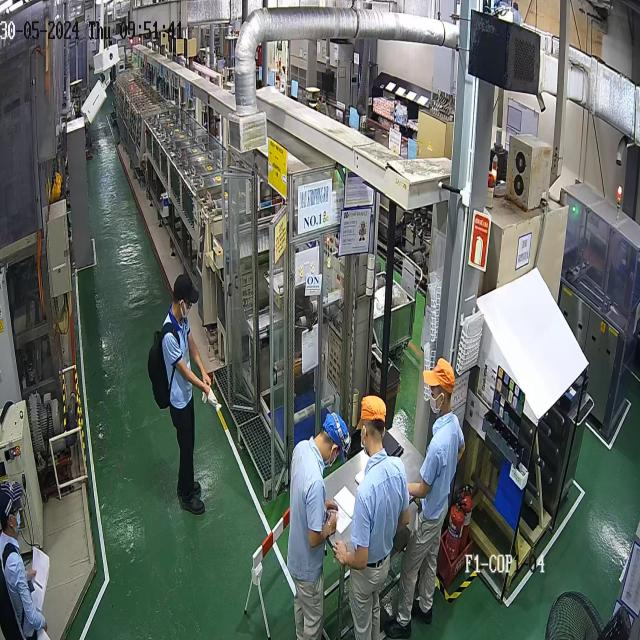Person: (384, 357, 465, 639), (332, 394, 410, 639), (286, 406, 351, 640), (160, 273, 211, 515), (0, 480, 49, 640)
